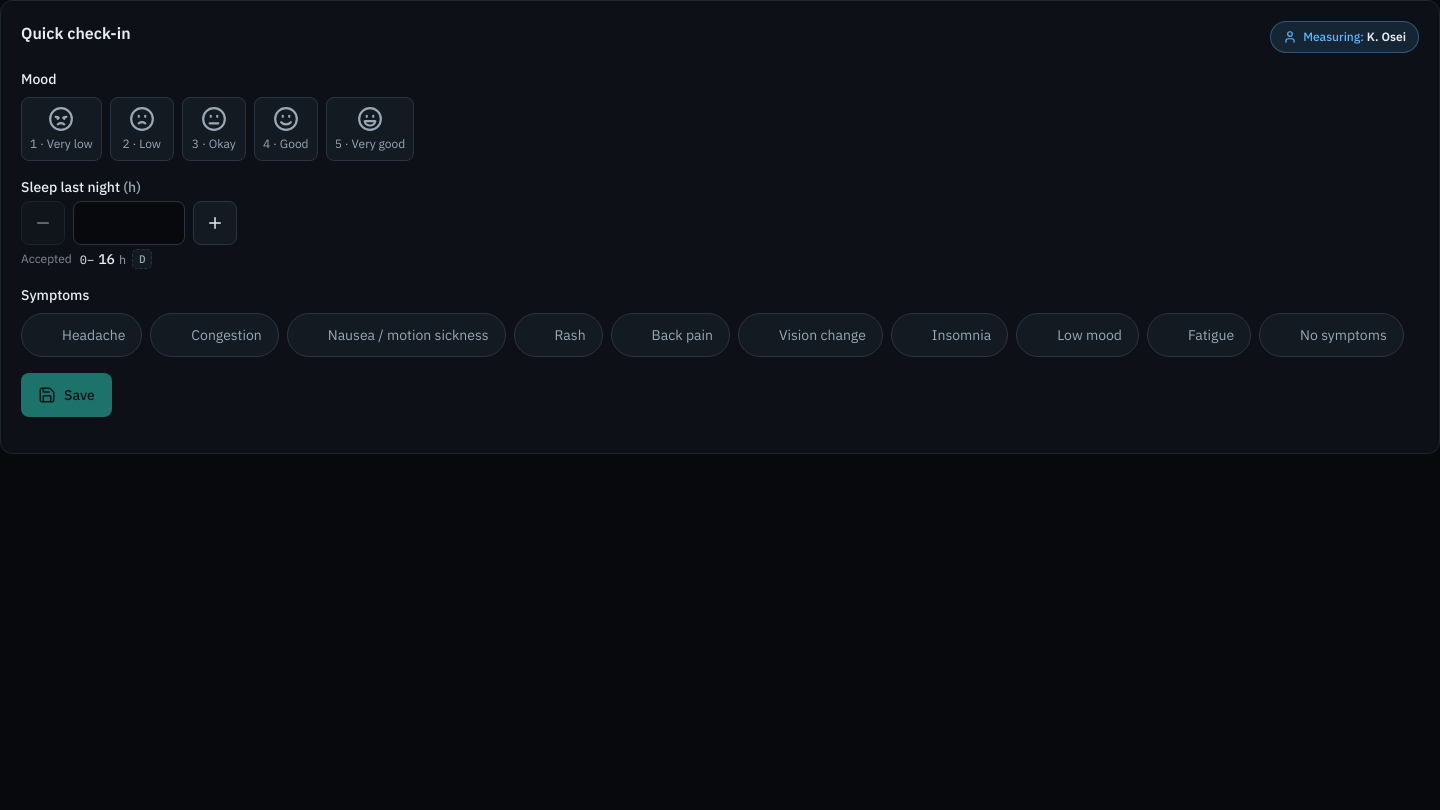
Test: QuickCheckIn › mood + sleep + symptom chips → three observations
Click the radio button with aria-label "2 – Low" at (142, 129), box [110,97,174,161]
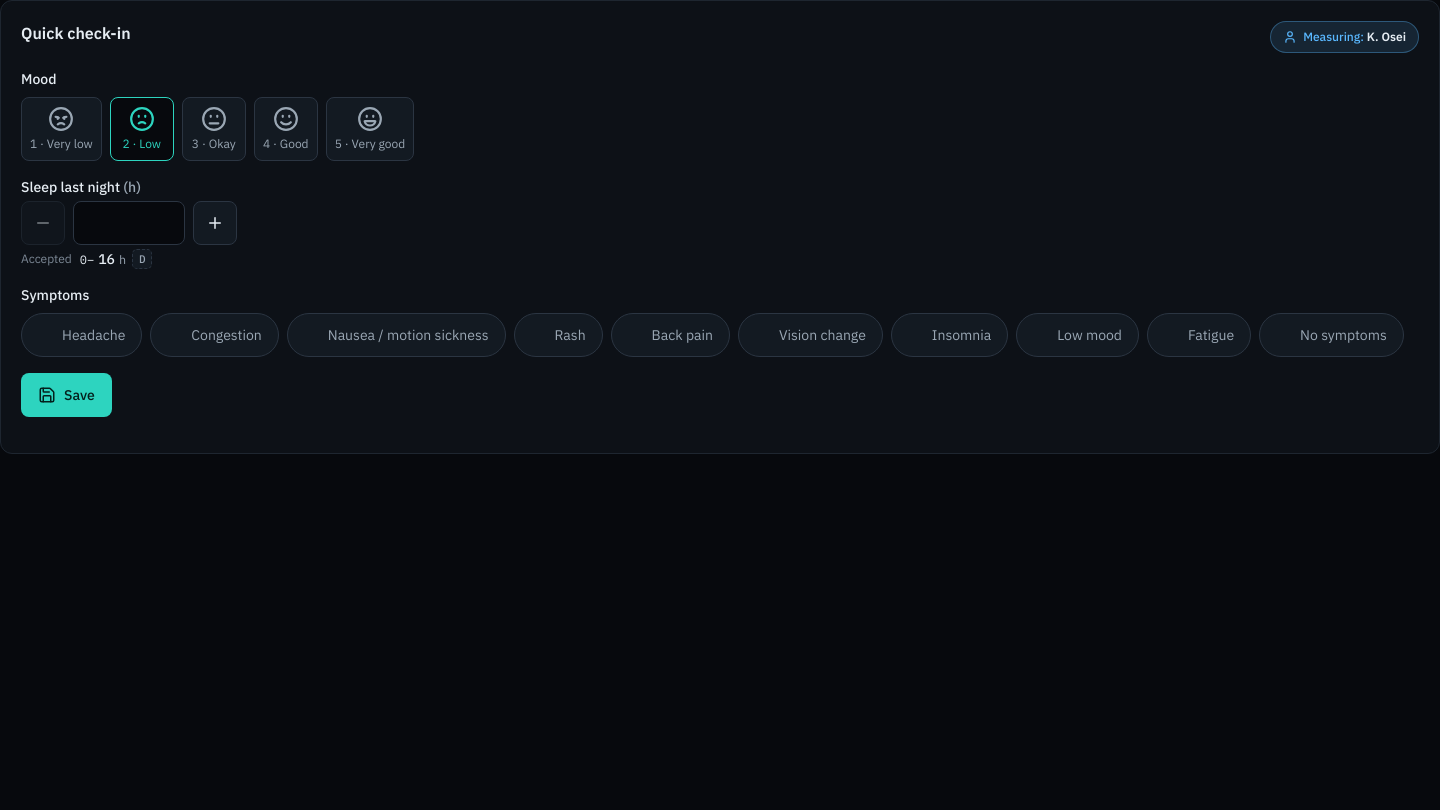
Type "5.5" into the field labelled "Sleep last night (h)" at (129, 223), box [73,201,185,245]
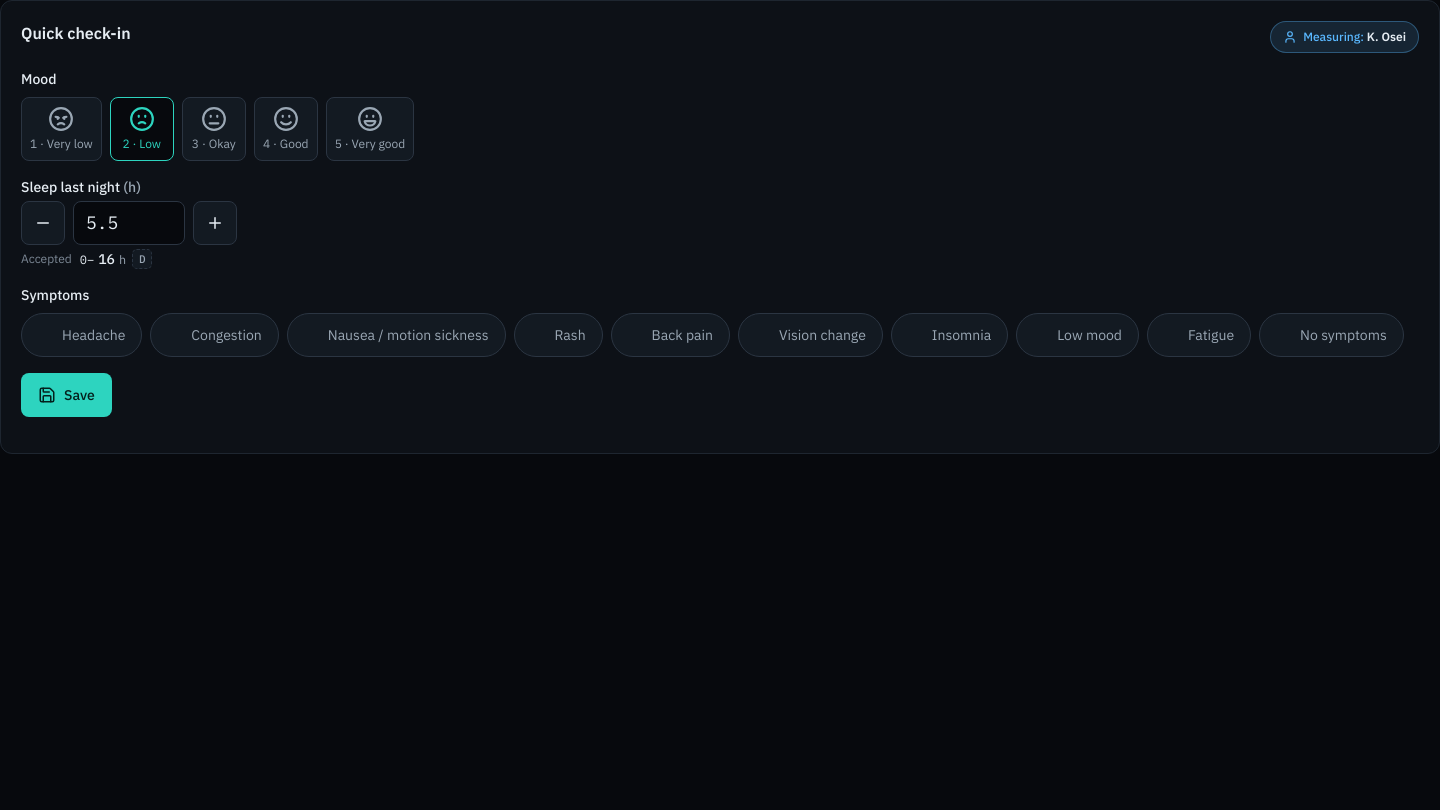
Click the checkbox labelled "Headache" at (82, 335), box [21,313,142,357]
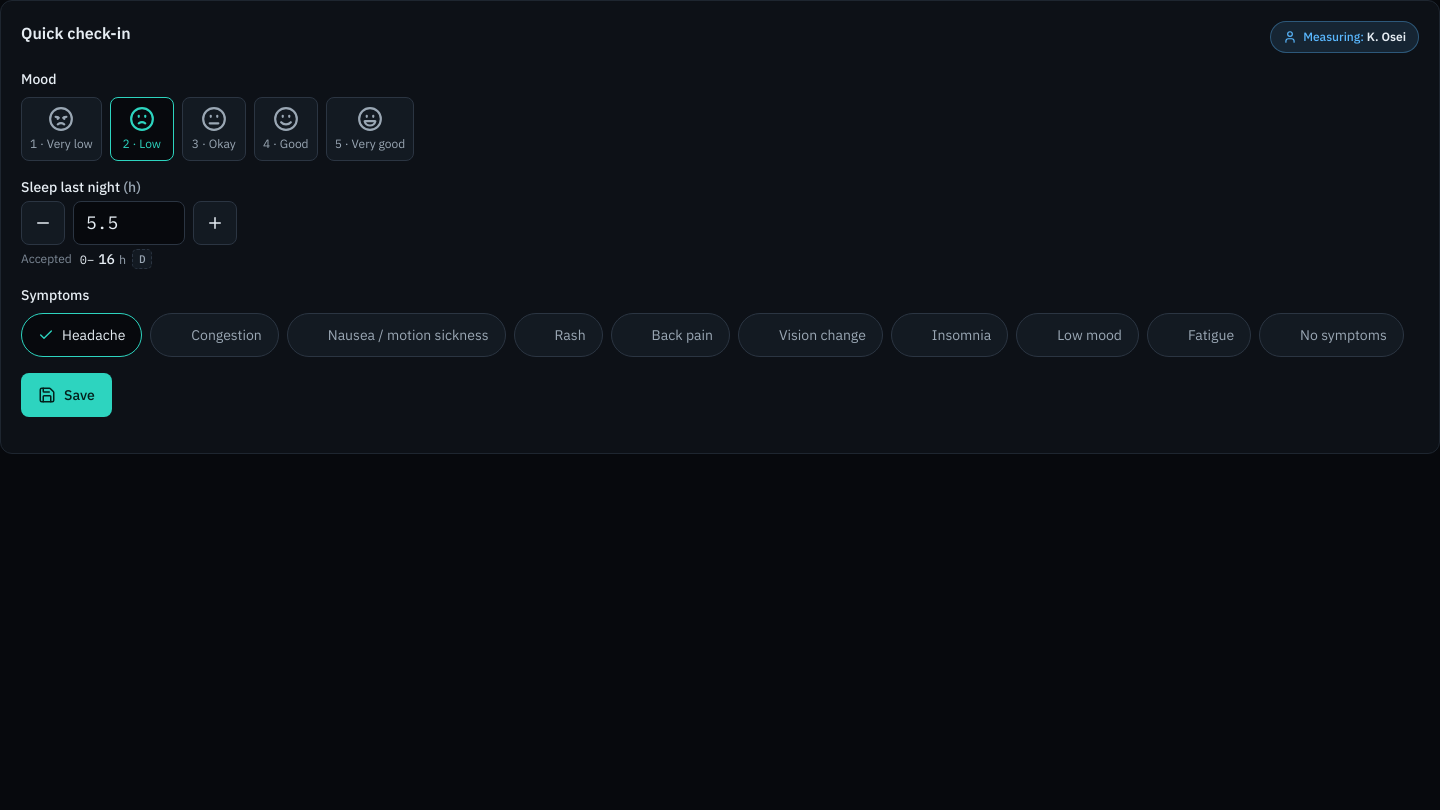
Click the checkbox labelled "Fatigue" at (1199, 335), box [1147,313,1251,357]
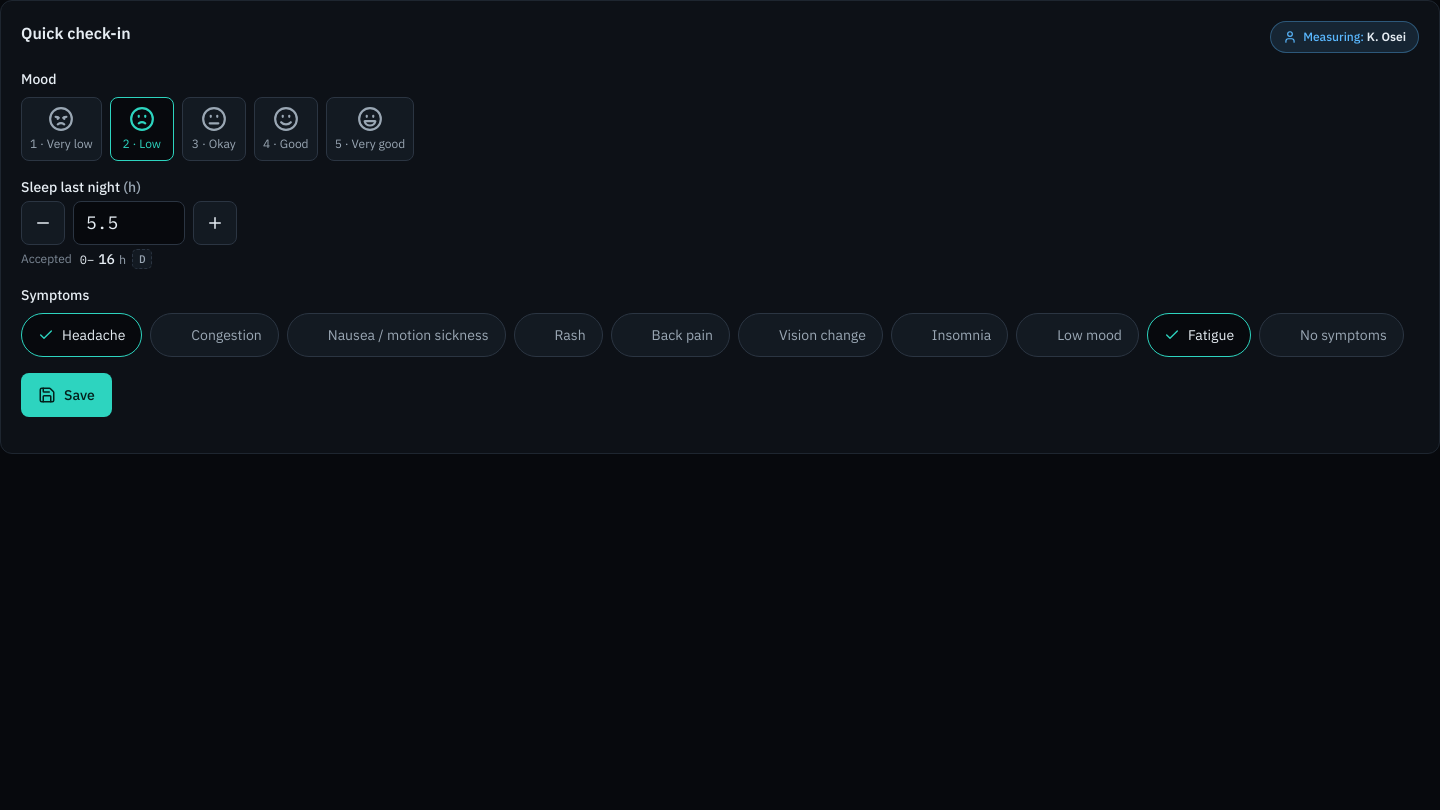
Click the button "Save" at (66, 395), box [21,373,112,417]
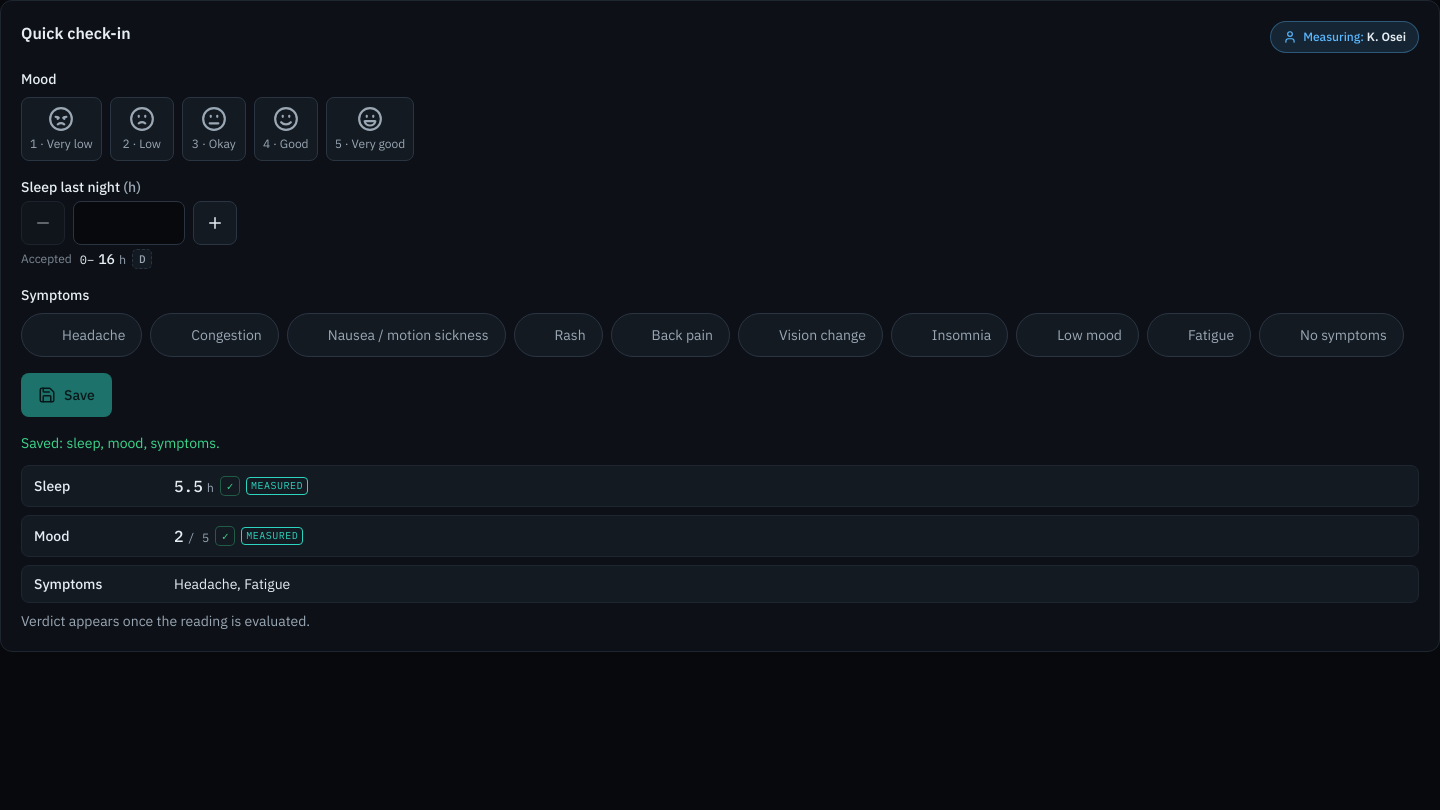
Check: the text "Saved: sleep, mood, symptoms." is shown, box [21,434,220,452]
